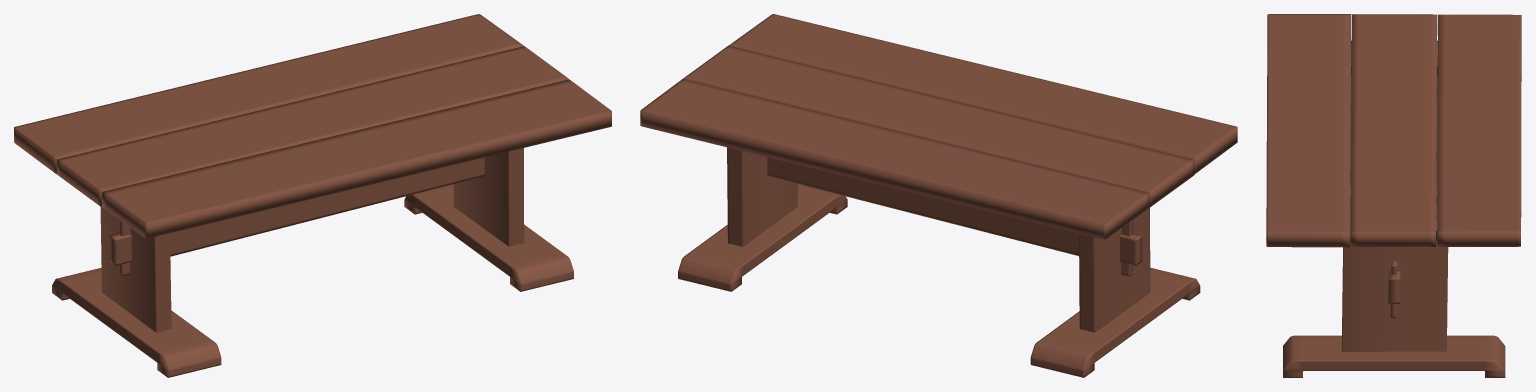
The model's file is Table.fbx.
3 views of the same model, side by side, from view 1: azimuth 30°, elevation 25°; view 2: azimuth 150°, elevation 25°; view 3: azimuth 270°, elevation 25° (orthographic). The views are drawn at different scales.
Parts seen in each view (by area): view 1: Table; view 2: Table; view 3: Table.
Boxes of the visible parts, x1,y1,x2,y2 form: Table: (14, 14, 611, 377); Table: (640, 14, 1237, 377); Table: (1266, 14, 1521, 377).
Bounding box in the file's own units: 118 × 239 × 82.01.
